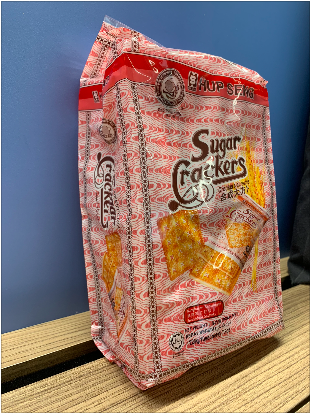Crackers_200-299g: (98, 71, 272, 349)
